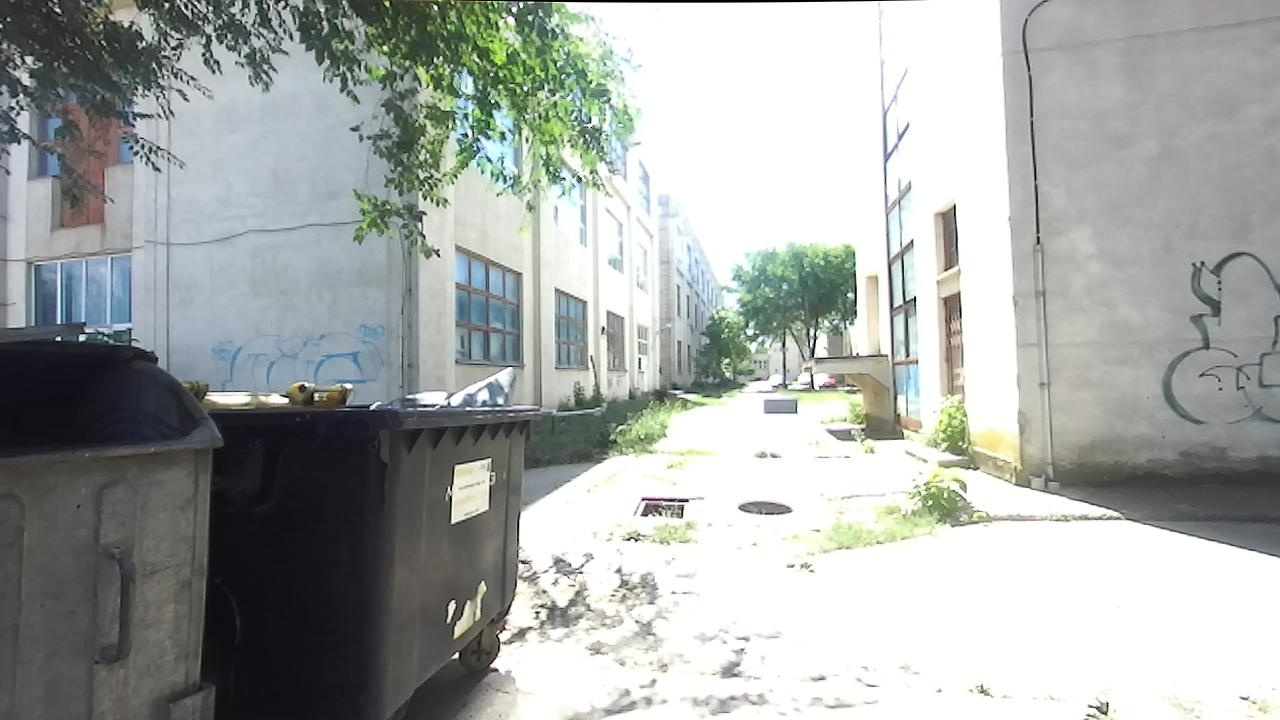drain: (630, 493, 691, 521), (732, 495, 795, 519)
